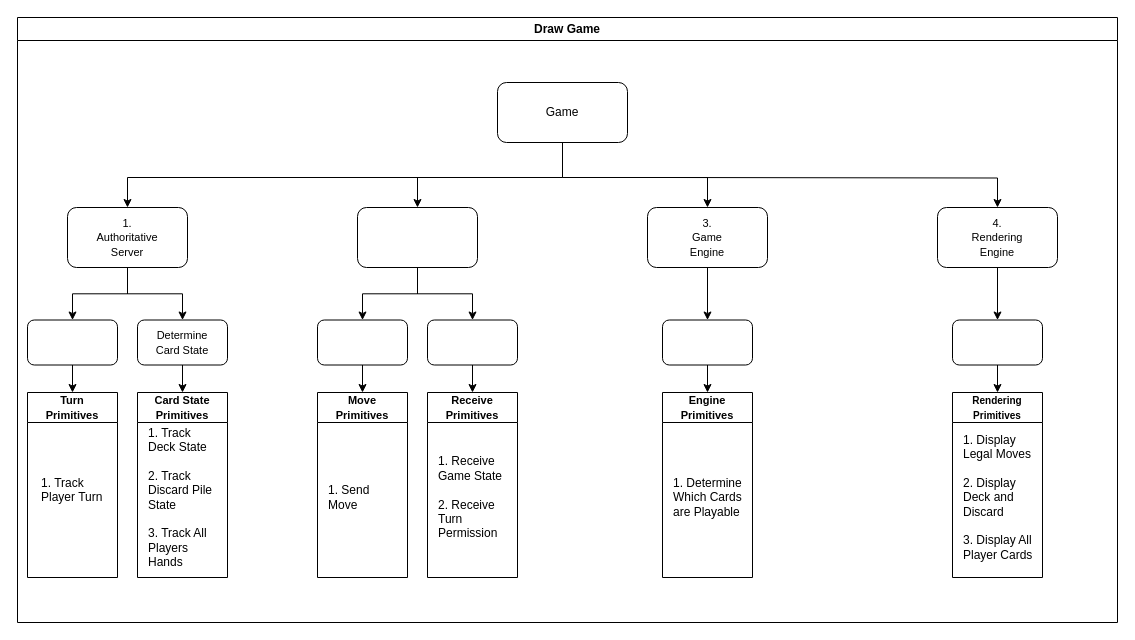
Some shapes in this 1135 by 640 pixel diagram are drawn without their labels. Each missing label, with the centre of its shape:
"2. Client" goes at point (417, 237).
"Calculate Legal Moves" goes at point (707, 342).
"Calculate Turn" goes at point (72, 342).
"Receive State" goes at point (472, 342).
"Sends Move" goes at point (362, 342).
"Show Game State" goes at point (997, 342).
